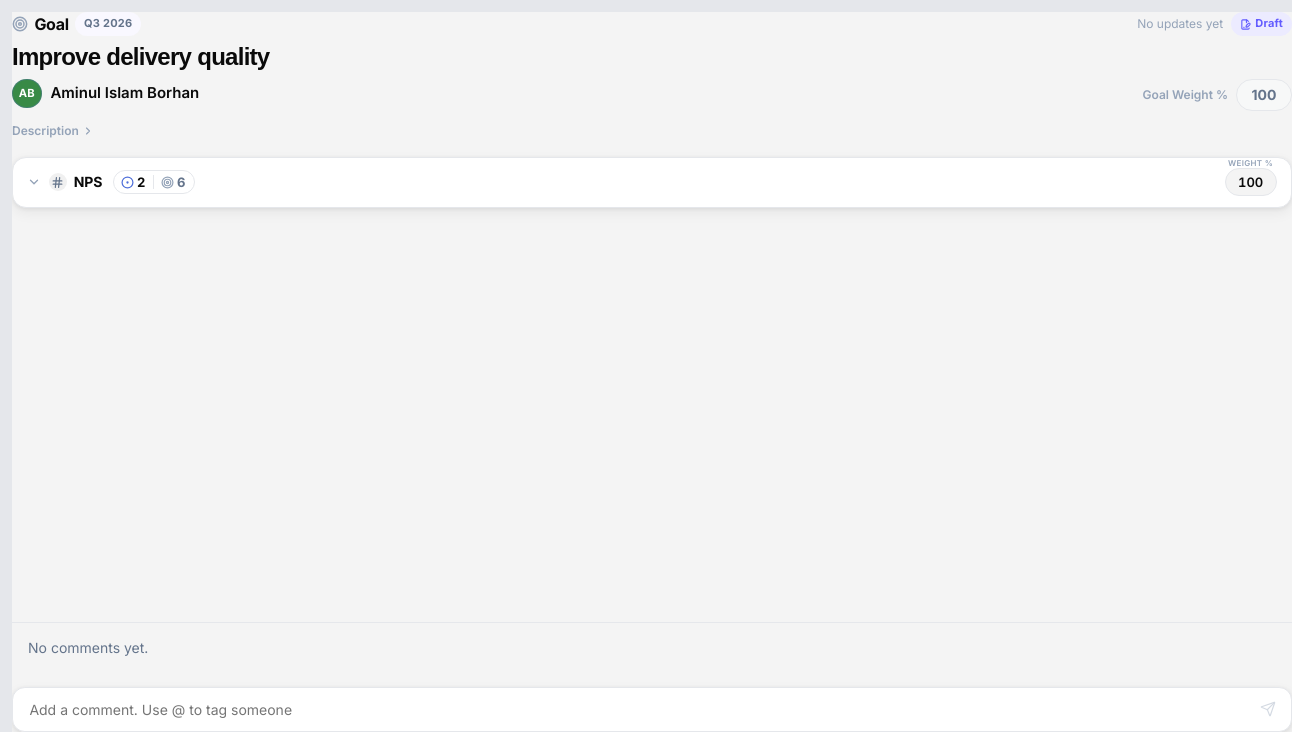
Scenario: GoalDetailView › shows the table metric tooltip on hover
The image size is (1292, 732).
Hover over the element "NPS": (88, 182) [74,173,102,192]
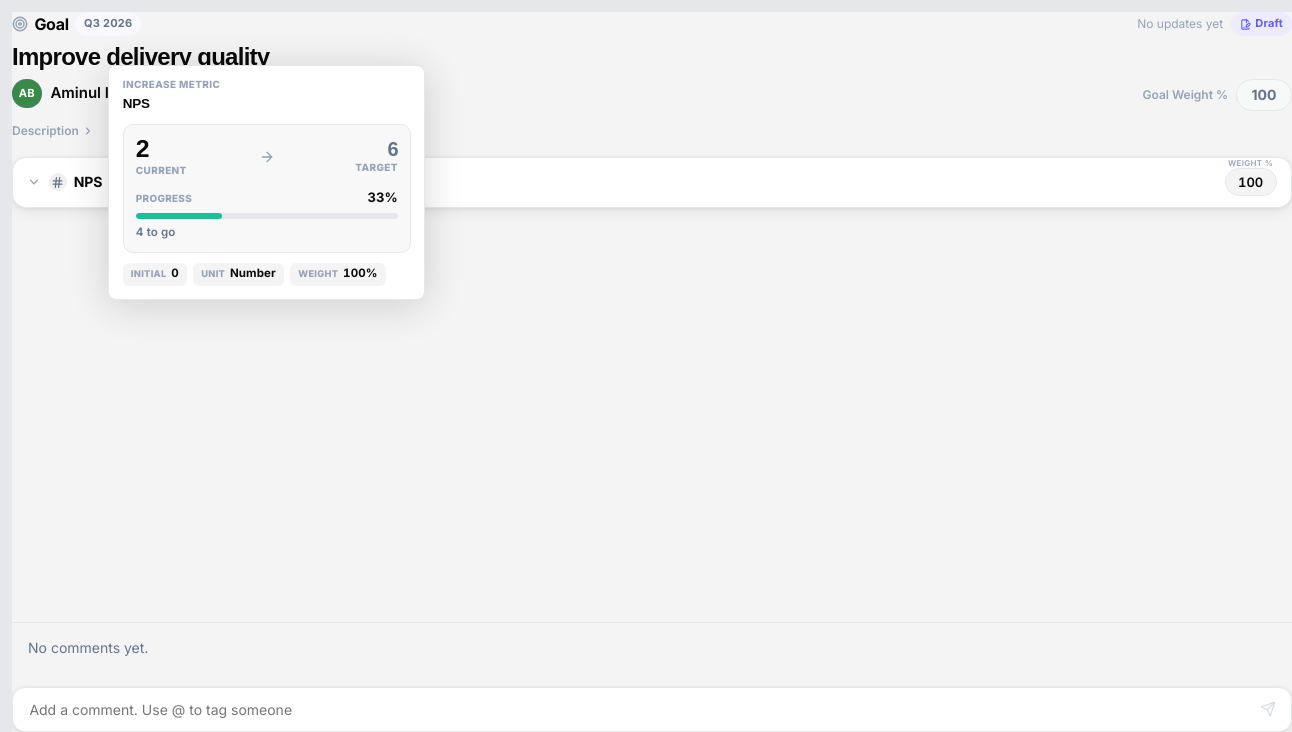
Now the tooltip shows "Increase metric", box [108,65,426,300]
Now the tooltip shows "NPS", box [123,96,150,111]
Now the tooltip shows "Initial", box [131,268,166,280]
